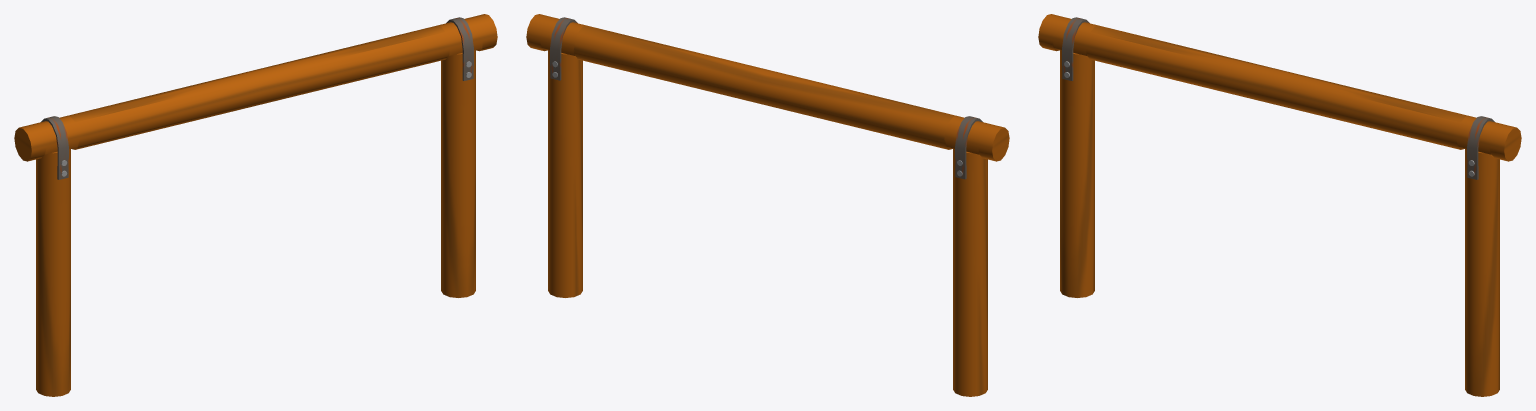
The model's file is hitchingPost.obj.
The picture shows the model from 3 angles, left to right: view 1: azimuth 30°, elevation 25°; view 2: azimuth 150°, elevation 25°; view 3: azimuth 330°, elevation 25°; orthographic projection.
Visible parts, largest first — view 1: Cylinder, Cylinder.001; view 2: Cylinder, Cylinder.001; view 3: Cylinder, Cylinder.001.
Part boxes in pixels (x1,y1,x2,y2): Cylinder: (14,14,497,396); Cylinder.001: (41,17,473,179); Cylinder: (526,14,1009,396); Cylinder.001: (550,17,982,179); Cylinder: (1038,14,1521,396); Cylinder.001: (1062,17,1494,179).
Bounding box in the file's own units: 9.2 × 5.12 × 0.7378.
1 material, 1 textured.
